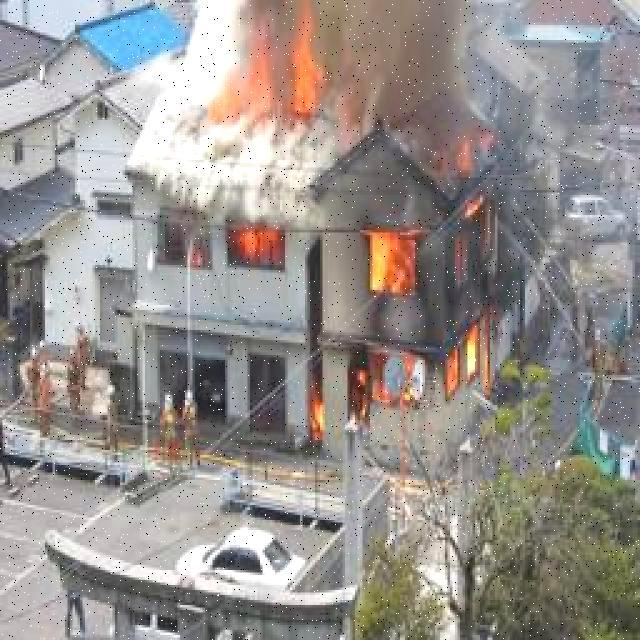Fire: (302, 124, 514, 457), (199, 11, 329, 125), (185, 224, 283, 274)
